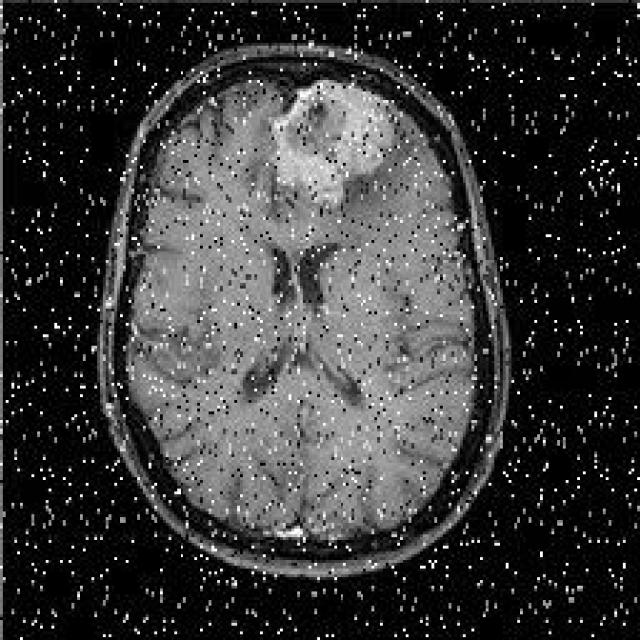meningioma_tumor: (264, 66, 406, 222)
